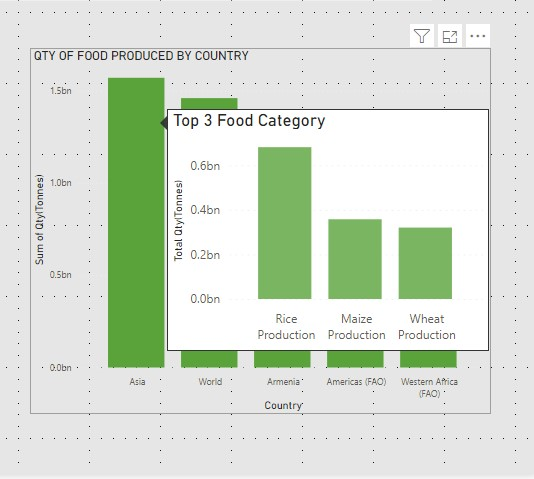

What the dashboard file says about the page in this screenshot:
{"tool":"powerbi","page":{"name":"Drillthrough","canvas":[1280,720],"ordinal":2},"visuals":[{"type":"actionButton","box":[0,0,100,40],"z":0},{"type":"textbox","box":[208,16,928,64],"z":1000},{"type":"columnChart","title":"QTY OF FOOD PRODUCED BY COUNTRY","fields":{"Category":["world food production.Country"],"Y":["Sum(world food production.Qty(Tonnes))"]},"box":[592,144,624,496],"z":2000},{"type":"tableEx","fields":{"Values":["world food production.Food Products","world food production.Country"]},"box":[64,144,496,496],"z":3000}]}

Visuals, with their boxes on the page's 1280x720 design canvas (x1, y1, x2, y2). These are canvas units, not pixel positions in the 534x479 screenshot, which may show the page scaled, cropped or inside an application window:
actionButton: BBox(0, 0, 100, 40)
textbox: BBox(208, 16, 1136, 80)
"QTY OF FOOD PRODUCED BY COUNTRY" columnChart: BBox(592, 144, 1216, 640)
tableEx - world food production.Food Products x world food production.Country: BBox(64, 144, 560, 640)
